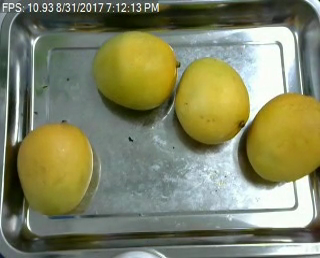Mango: (16, 123, 97, 217), (245, 85, 320, 183), (91, 30, 179, 112), (175, 55, 253, 146)
